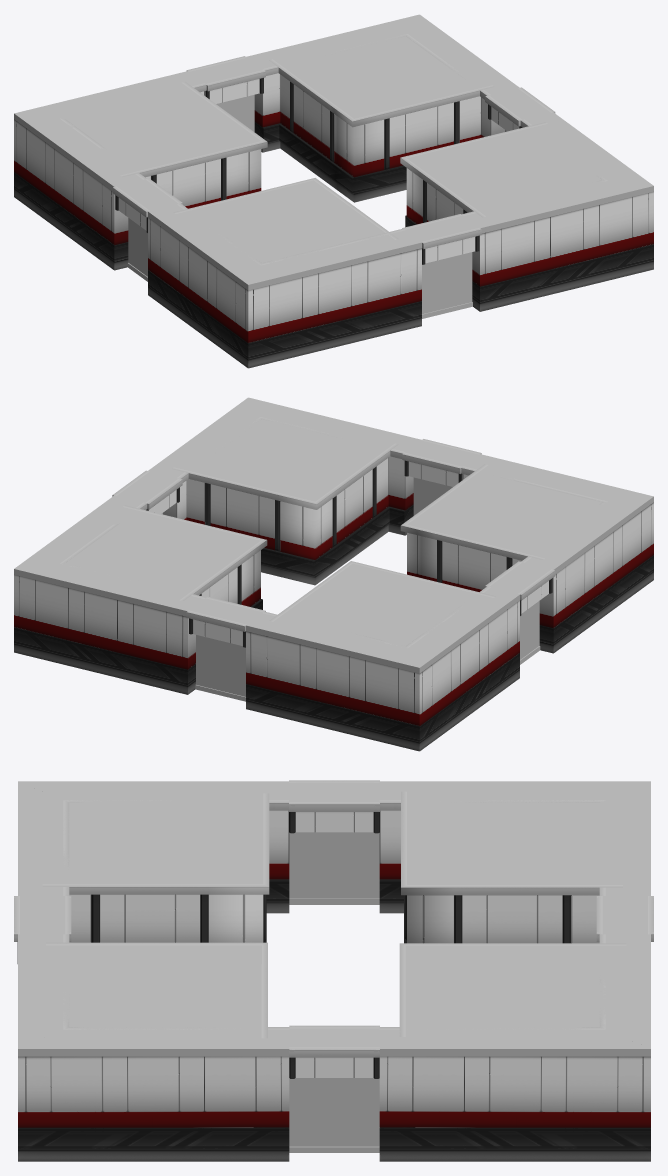
The model's file is Room14.FBX.
3 views of the same model, one above another, from view 1: azimuth 30°, elevation 25°; view 2: azimuth 150°, elevation 25°; view 3: azimuth 270°, elevation 25° (orthographic). The views are drawn at different scales.
Visible parts, largest first — view 1: Wall0 (×8), Wall2 (×4), Box204, Box058, Box324, Door1, Box205, Box206, Box326, Box061; view 2: Wall0 (×8), Wall2 (×4), Box058, Box204, Box324, Door1, Box061, Box060, Box325, Box205; view 3: Wall2 (×4), Wall0 (×8), Door (×2), Door1, Box324, Box325, Box326, Box204, Box058.
Part boxes in pixels (x1,y1,x2,y2): Wall0 (×8): [14, 14, 653, 368]; Wall2 (×4): [43, 25, 627, 341]; Box204: [402, 214, 481, 264]; Box058: [186, 56, 265, 103]; Box324: [112, 178, 182, 232]; Door1: [485, 87, 555, 131]; Box205: [443, 252, 472, 313]; Box206: [422, 259, 443, 318]; Box326: [127, 218, 144, 278]; Box061: [225, 94, 254, 131]; Wall0 (×8): [14, 397, 653, 751]; Wall2 (×4): [41, 409, 624, 724]; Box058: [186, 596, 265, 647]; Box204: [402, 439, 481, 486]; Box324: [485, 561, 555, 615]; Door1: [112, 470, 182, 513]; Box061: [195, 635, 224, 696]; Box060: [224, 642, 245, 701]; Box325: [523, 601, 540, 661]; Box205: [413, 477, 442, 515]; Wall2 (×4): [42, 791, 626, 1127]; Wall0 (×8): [18, 781, 650, 1161]; Door (×2): [289, 1078, 379, 1152]; Door1: [289, 1025, 379, 1078]; Box324: [289, 780, 379, 833]; Box325: [289, 832, 334, 904]; Box326: [334, 832, 379, 904]; Box204: [14, 896, 71, 963]; Box058: [596, 896, 653, 941].
Size of the model in its own units: 141 by 27.57 by 142.
